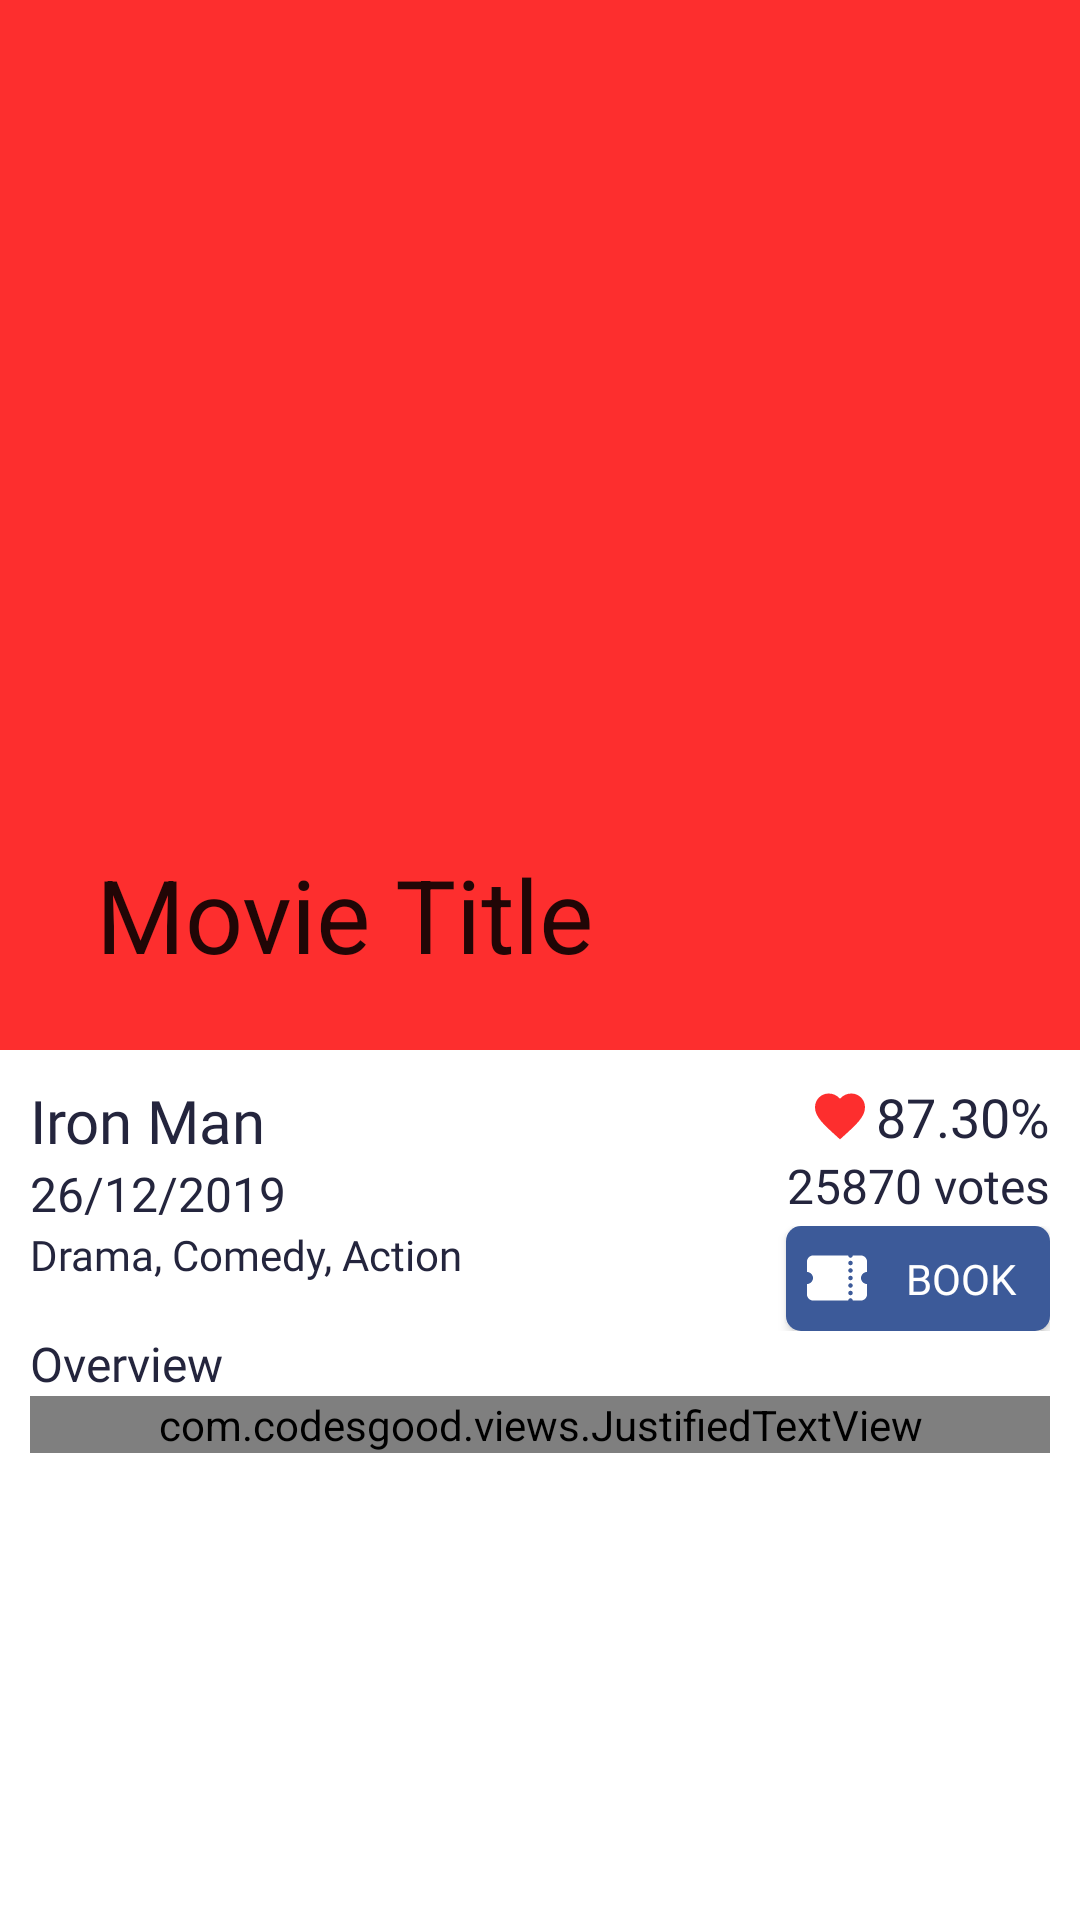

Point at icon controls on the screen. Image size 1080w x 1920h, points as (x,y).
favorite: (840,1116)
